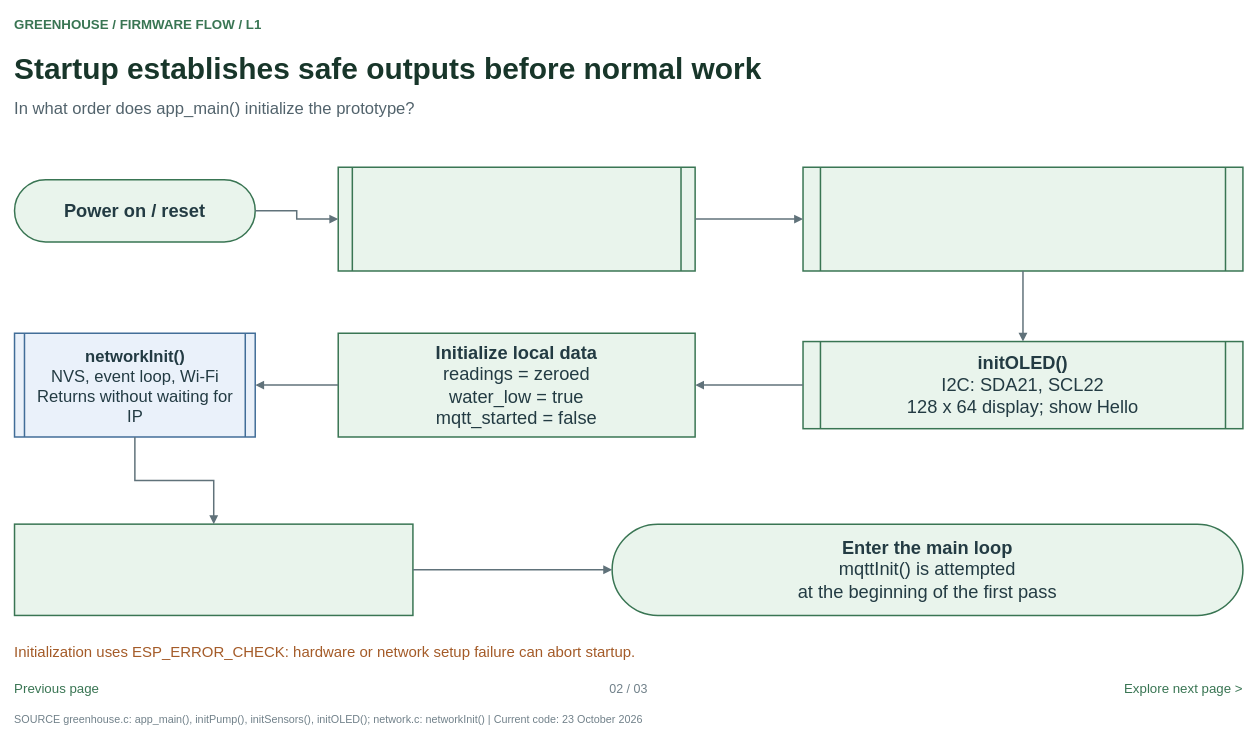
Some shapes in this 1258 by 742 pixel diagram are drawn without their labels. Each missing label, with the centre of its shape:
"Create boot identity Two random 32-bit values 16 lowercase hex characters" belongs at point (213, 569).
"initPump() Set GPIO16 LOW Configure output; set LOW again pump_on = false" belongs at point (516, 218).
"initSensors() Create ADC1, 12-bit, 12 dB Configure channels 6, 7 and 5" belongs at point (1022, 218).
